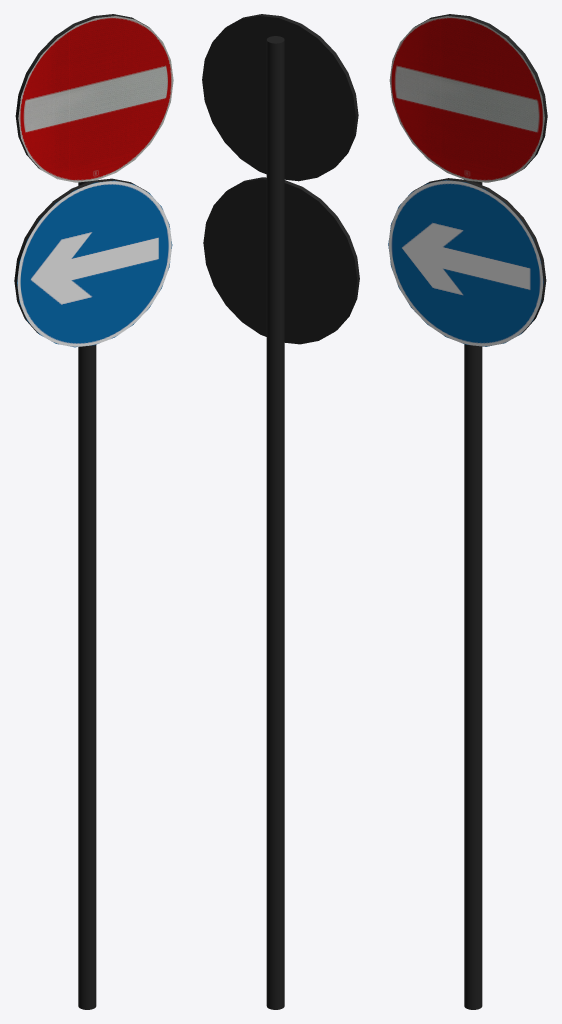
The model's file is RoadSign1.FBX.
3 renders of one model, left to right at view 1: azimuth 30°, elevation 25°; view 2: azimuth 150°, elevation 25°; view 3: azimuth 330°, elevation 25°, orthographic.
Parts seen in each view (by area): view 1: Group002, Cone008, Cone014, Cone010; view 2: Cone008, Cone014, Cone010; view 3: Group002, Cone008, Cone014, Cone010.
Boxes of the visible parts, <box> form: Group002: <box>17,16,173,347</box>; Cone008: <box>78,181,96,1009</box>; Cone014: <box>15,14,149,169</box>; Cone010: <box>14,178,148,333</box>; Cone008: <box>266,36,284,1009</box>; Cone014: <box>202,14,358,181</box>; Cone010: <box>203,177,359,344</box>; Group002: <box>388,16,544,346</box>; Cone008: <box>464,181,482,1009</box>; Cone014: <box>413,14,547,169</box>; Cone010: <box>412,178,546,333</box>.
Bounding box in the file's own units: 101 × 611 × 13.2.
3 materials, 2 textured.
